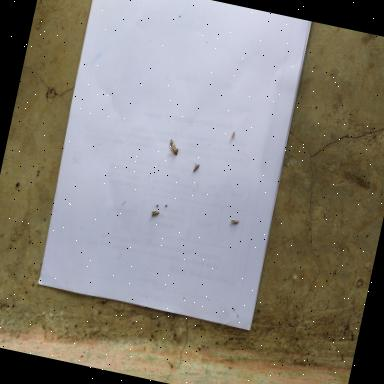pbw: (168, 143, 178, 156), (148, 209, 160, 218), (191, 161, 199, 173), (168, 139, 174, 149), (229, 219, 238, 225), (230, 131, 234, 139)
